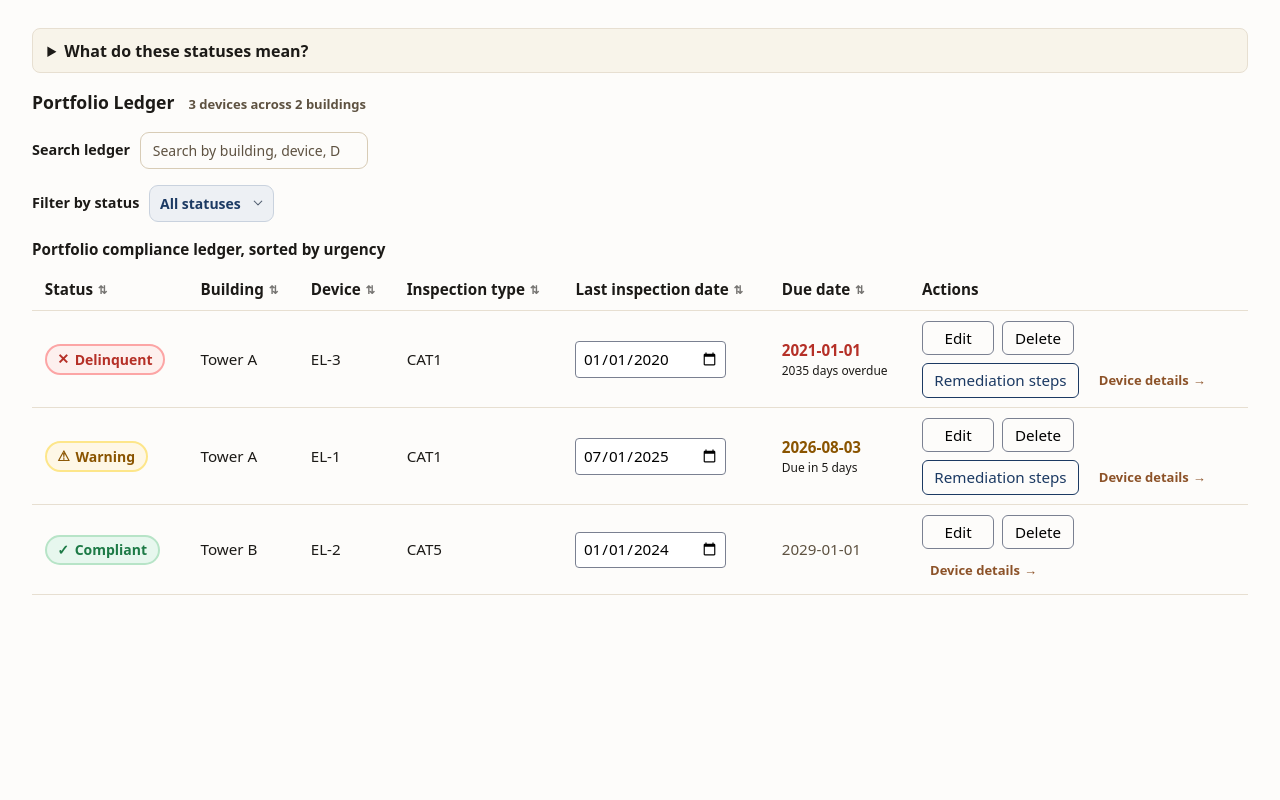
Test: LedgerPage › includes a collapsed status-meaning legend that explains all three statuses once expanded
The width and height of the screenshot is (1280, 800).
Expected: the element showing "What do these statuses mean?" is shown, [32, 28, 1248, 73]
Click the heading "What do these statuses mean?".
click(186, 51)  # box [64, 40, 308, 62]
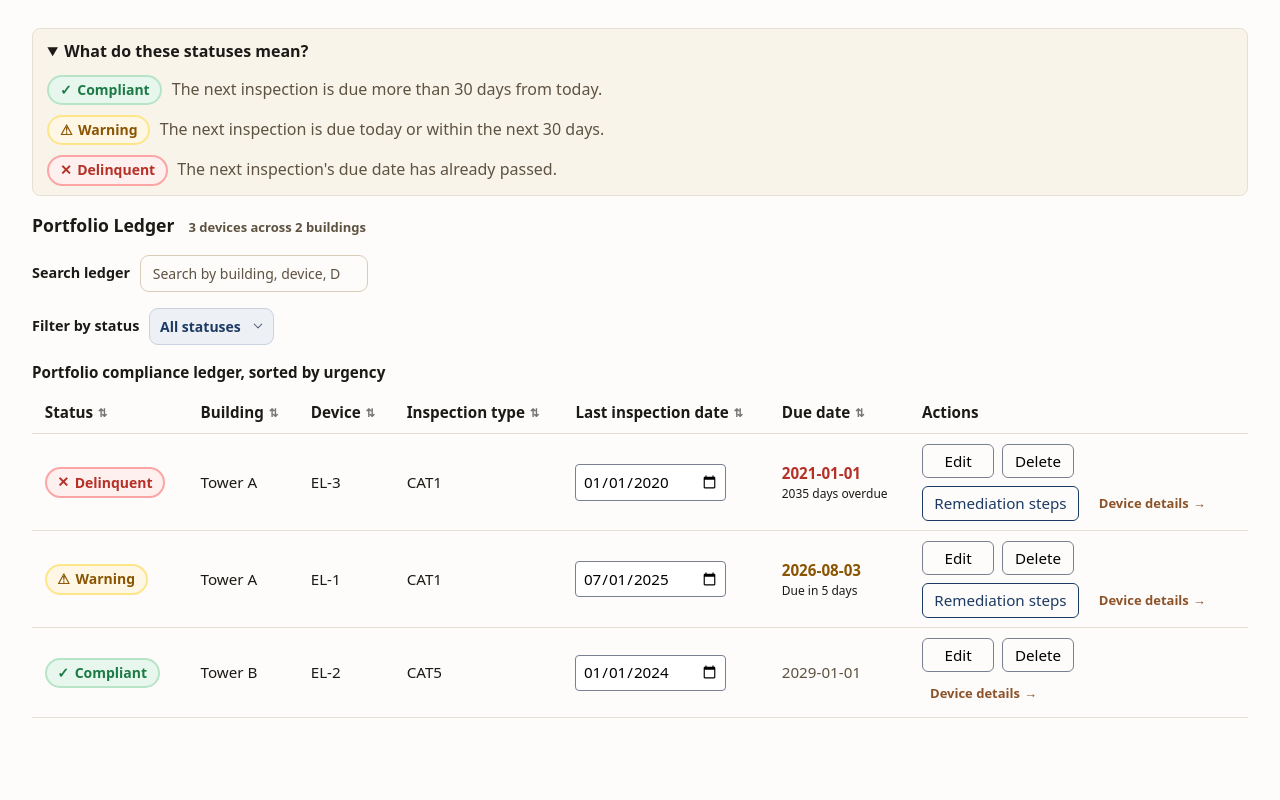
Expected: the element that starts with "What do these statuses mean?" shows "Compliant", [77, 80, 150, 99]
Expected: the element that starts with "What do these statuses mean?" shows "more than 30 days", [172, 78, 602, 100]
Expected: the element that starts with "What do these statuses mean?" shows "warning", [78, 120, 138, 139]
